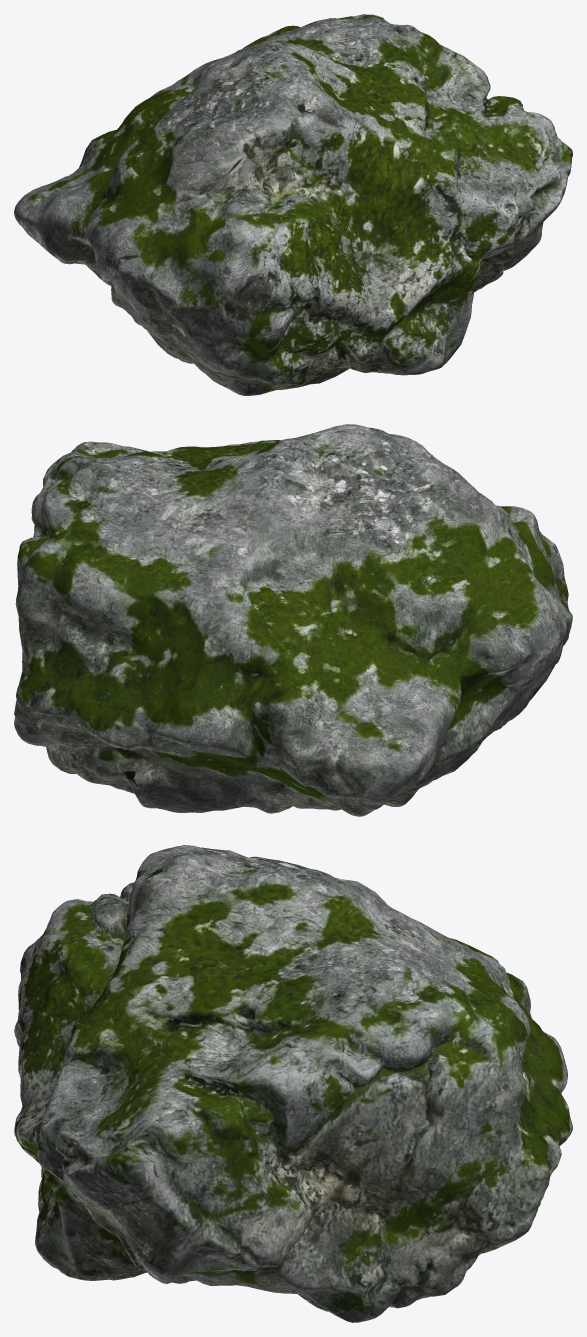
File: rock.glb
3 renders of one model, top to bottom at view 1: azimuth 30°, elevation 25°; view 2: azimuth 150°, elevation 25°; view 3: azimuth 270°, elevation 25°, orthographic. The views are drawn at different scales.
Parts seen in each view (by area): view 1: Mesh_0; view 2: Mesh_0; view 3: Mesh_0.
Part boxes in pixels (bbox=[...]): Mesh_0: bbox=[14, 14, 572, 395]; Mesh_0: bbox=[14, 424, 572, 816]; Mesh_0: bbox=[14, 845, 572, 1322].
Bounding box in the file's own units: 1.91 × 1.18 × 1.61.
Materials: 1 (1 with a texture image).
